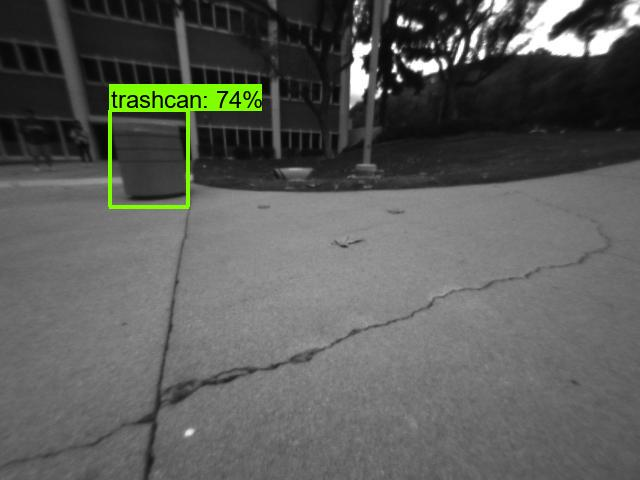trashcan: (106, 119, 192, 202)
